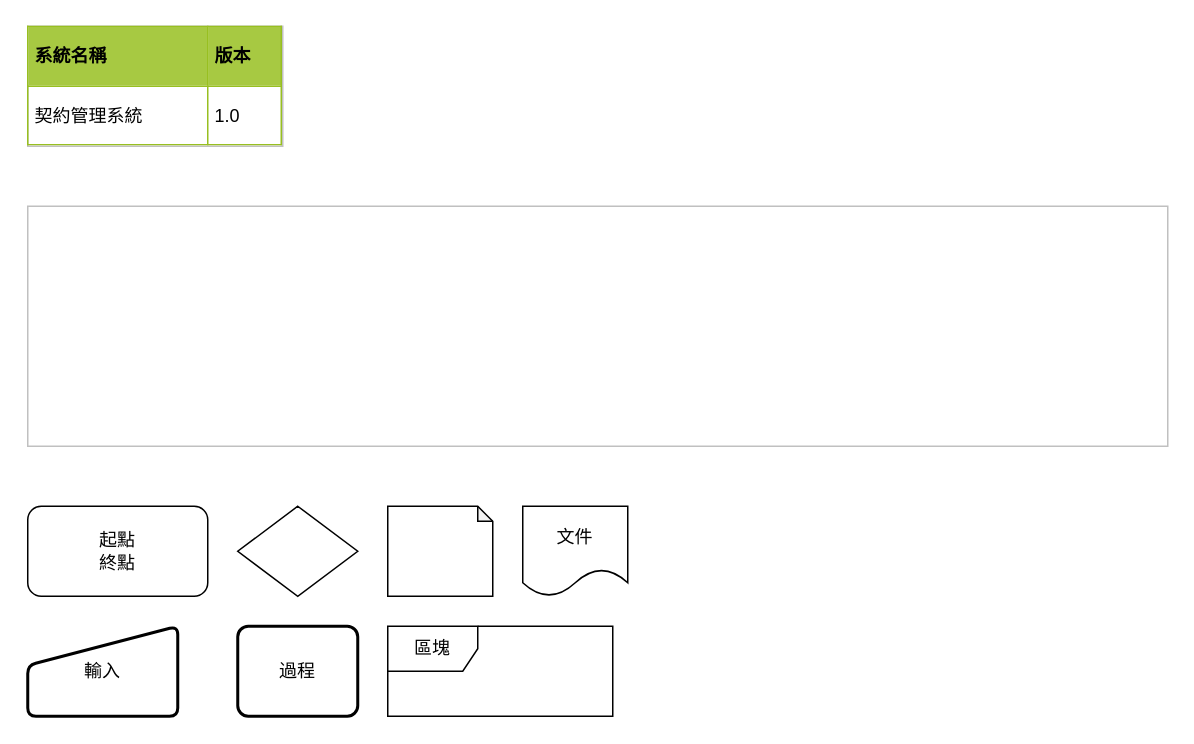
Some shapes in this 1194 by 744 pixel diagram are drawn without their labels. Here are the shapes that lost their labels. From the top down, the box of each, then its label:
(26, 205, 1168, 446): 版本 日期 作者 審核 備註 1.0 2020/1/30 Kota 第一版
(236, 505, 358, 596): 判斷式
(386, 505, 493, 596): 備註
